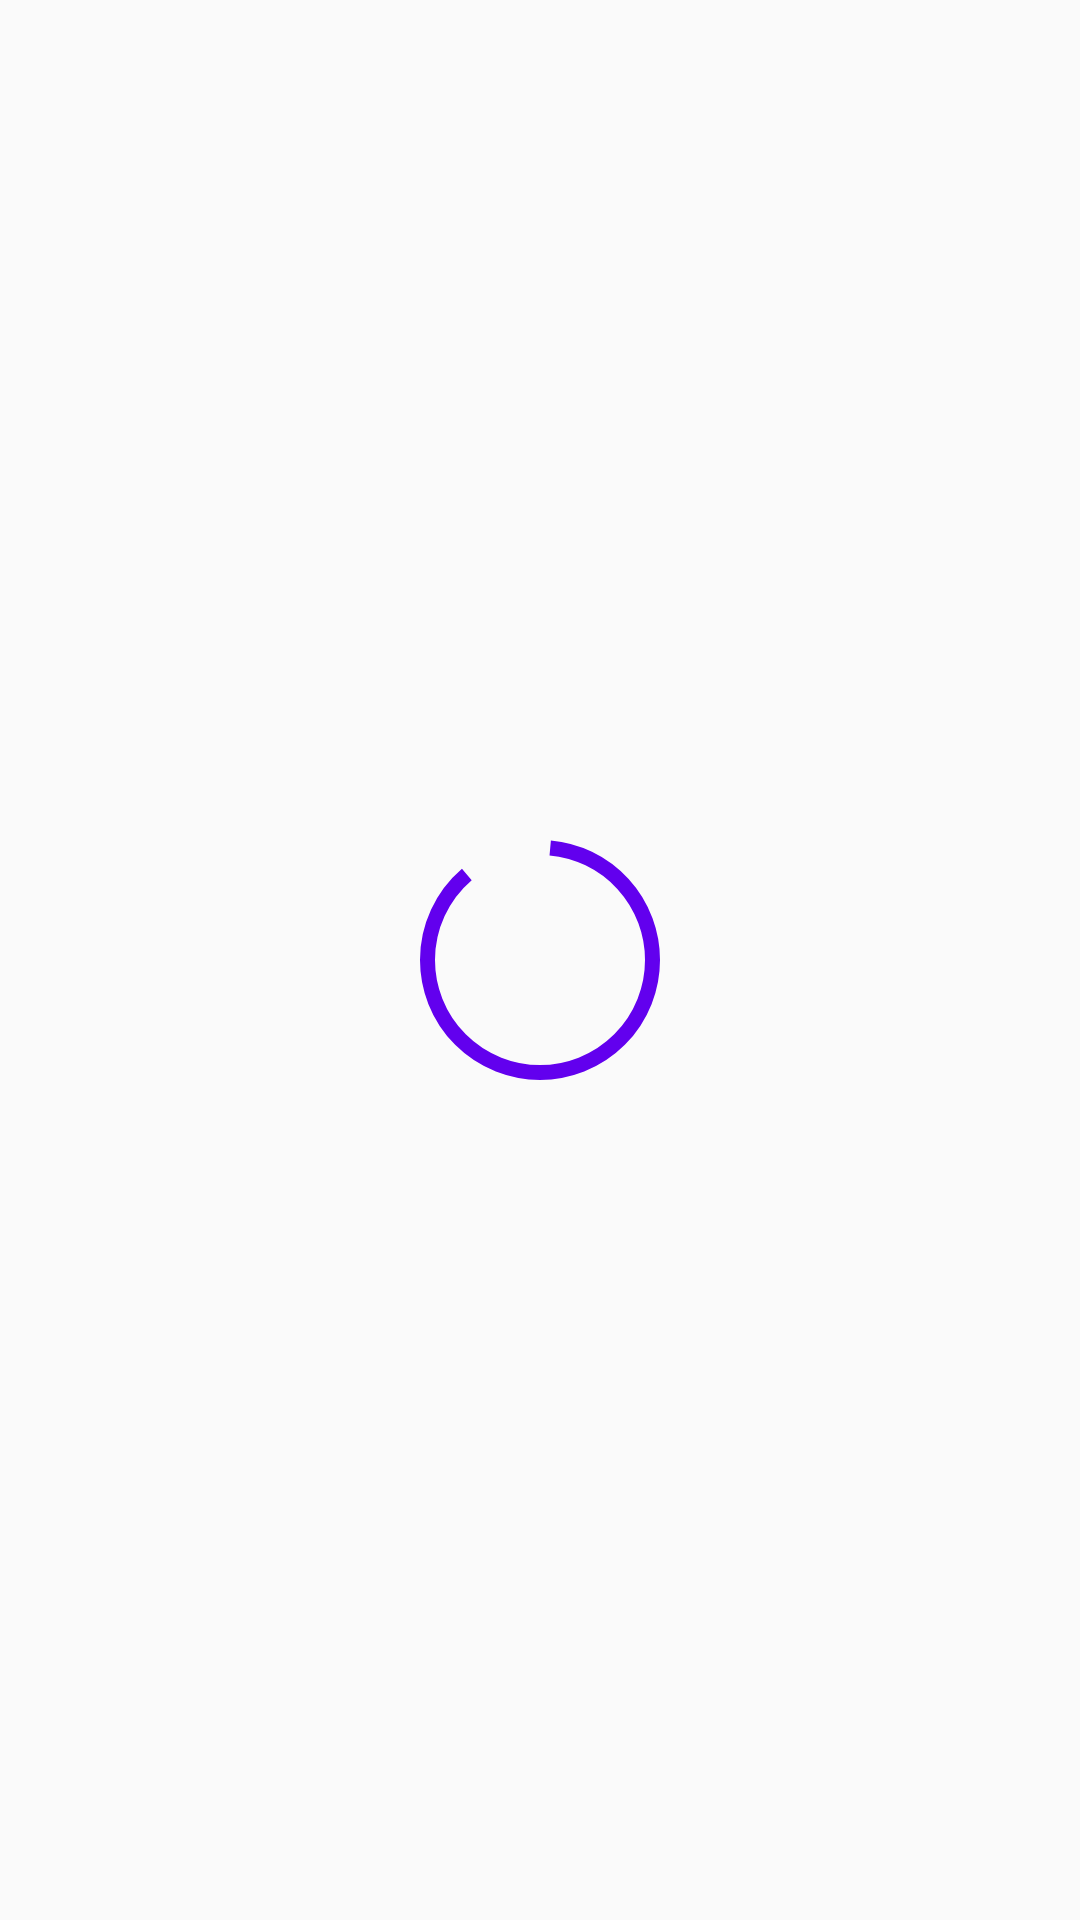

Screen size 1080 × 1920. Icon name, then its box in pixels as Rect(x1, y1, x2, y2):
circular progressbar: Rect(420, 840, 660, 1080)
